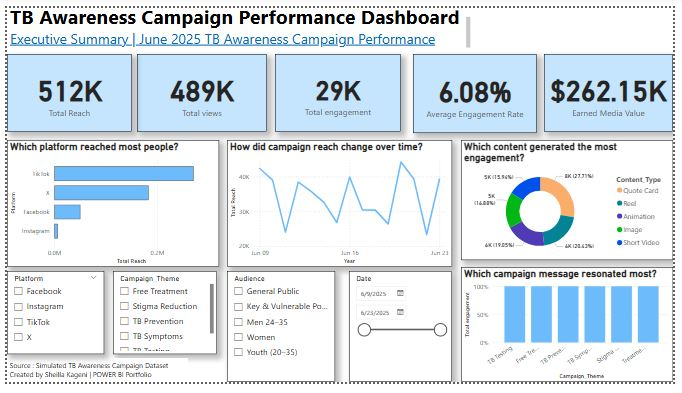

The page's visual inventory and layout, read from the dashboard file:
{"tool":"powerbi","page":{"name":"Executive Summary","canvas":[1280,720],"ordinal":0},"visuals":[{"type":"card","fields":{"Values":["Fact TB_Campaign.Average Engagement Rate"]},"box":[780.8,88.5,238.5,151.9],"z":1},{"type":"card","fields":{"Values":["Fact TB_Campaign.Total views"]},"box":[250,88.5,250,150],"z":3},{"type":"card","fields":{"Values":["Fact TB_Campaign.Total engagement"]},"box":[515.4,88.5,242.3,150],"z":4},{"type":"clusteredBarChart","title":"Which platform reached  most people?","fields":{"Category":["Fact TB_Campaign.Platform"],"Y":["Fact TB_Campaign.Total Reach"]},"box":[0,253.8,407.7,244.2],"z":5},{"type":"lineChart","title":"How did campaign reach change over time?","fields":{"Y":["Fact TB_Campaign.Total Reach"],"Category":["Fact TB_Campaign.Date.Variation.Date Hierarchy.Year","Fact TB_Campaign.Date.Variation.Date Hierarchy.Month","Fact TB_Campaign.Date.Variation.Date Hierarchy.Day"]},"box":[423.1,253.8,432.7,244.2],"z":6},{"type":"hundredPercentStackedColumnChart","title":"Which campaign message resonated most?","fields":{"Category":["Fact TB_Campaign.Campaign_Theme"],"Y":["Fact TB_Campaign.Total engagement"]},"box":[872.3,498.1,407.7,221.2],"z":8},{"type":"slicer","fields":{"Values":["Fact TB_Campaign.Campaign_Theme"]},"box":[203.8,505.8,203.8,213.5],"z":10},{"type":"slicer","fields":{"Values":["Fact TB_Campaign.Audience"]},"box":[423.1,505.8,207.7,213.5],"z":11},{"type":"slicer","fields":{"Values":["Fact TB_Campaign.Date"]},"box":[657.7,505.8,198.1,213.5],"z":12},{"type":"card","fields":{"Values":["Fact TB_Campaign.Total EMV"]},"box":[1032.7,88.5,248.1,150],"z":13},{"type":"donutChart","title":"Which content generated the most engagement?","fields":{"Y":["Fact TB_Campaign.Total engagement"],"Category":["Fact TB_Campaign.Content_Type"]},"box":[873.1,253.8,407.7,230.8],"z":14},{"type":"textbox","box":[151.6,99.2,13.1,13.1],"z":15},{"type":"textbox","box":[0,0,896.2,80.8],"z":17},{"type":"card","fields":{"Values":["Fact TB_Campaign.Total Reach"]},"box":[0,88.5,240.4,150],"z":18},{"type":"textbox","box":[0,673.1,348.1,46.2],"z":19},{"type":"slicer","fields":{"Values":["Fact TB_Campaign.Platform"]},"box":[0,505.8,186.5,159.6],"z":20}]}

Visuals, with their boxes in screenshot pixels (x1, y1, x2, y2), scaled from the page's 1280x720 canvas onto the 682x393 screenshot:
card - Fact TB_Campaign.Average Engagement Rate: detection(416, 48, 543, 131)
card - Fact TB_Campaign.Total views: detection(133, 48, 266, 130)
card - Fact TB_Campaign.Total engagement: detection(275, 48, 404, 130)
"Which platform reached  most people?" clusteredBarChart: detection(0, 139, 217, 272)
"How did campaign reach change over time?" lineChart: detection(225, 139, 456, 272)
"Which campaign message resonated most?" hundredPercentStackedColumnChart: detection(465, 272, 681, 392)
slicer - Fact TB_Campaign.Campaign_Theme: detection(109, 276, 217, 392)
slicer - Fact TB_Campaign.Audience: detection(225, 276, 336, 392)
slicer - Fact TB_Campaign.Date: detection(350, 276, 456, 392)
card - Fact TB_Campaign.Total EMV: detection(550, 48, 681, 130)
"Which content generated the most engagement?" donutChart: detection(465, 139, 681, 265)
textbox: detection(81, 54, 88, 61)
textbox: detection(0, 0, 478, 44)
card - Fact TB_Campaign.Total Reach: detection(0, 48, 128, 130)
textbox: detection(0, 367, 185, 392)
slicer - Fact TB_Campaign.Platform: detection(0, 276, 99, 363)
